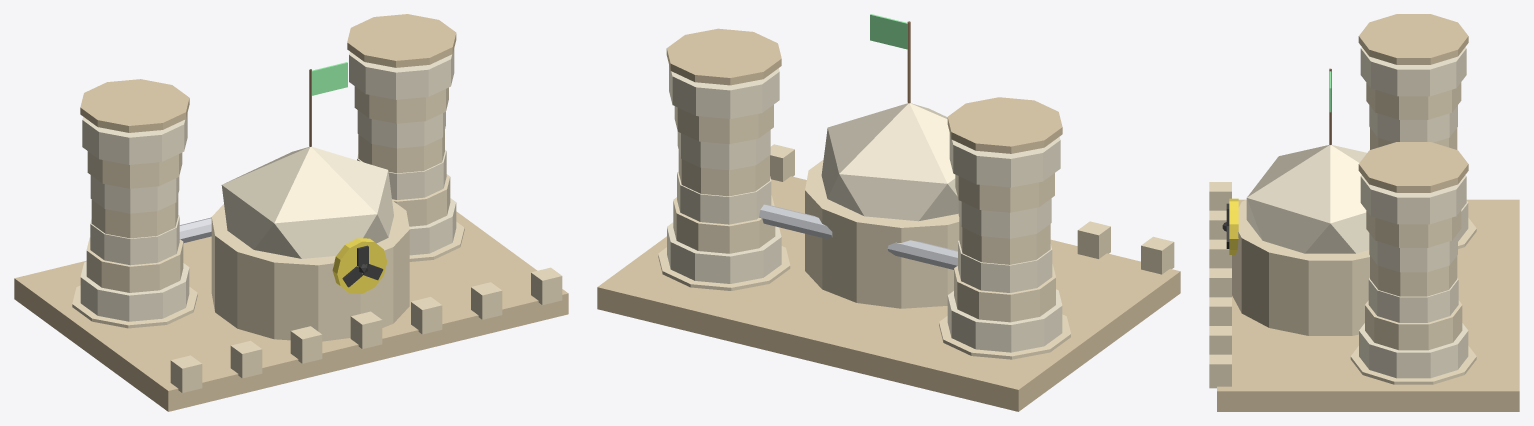
File: Powerplant.fbx
3 renders of one model, left to right at view 1: azimuth 30°, elevation 25°; view 2: azimuth 150°, elevation 25°; view 3: azimuth 270°, elevation 25°, orthographic. The views are drawn at different scales.
Parts seen in each view (by area): view 1: Body; view 2: Body; view 3: Body.
Part boxes in pixels (box(x1,y1,x2,y2)): Body: box(14, 14, 568, 411); Body: box(597, 14, 1180, 411); Body: box(1209, 14, 1519, 411).
Size of the model in its own units: 12 by 7.29 by 8.2.
